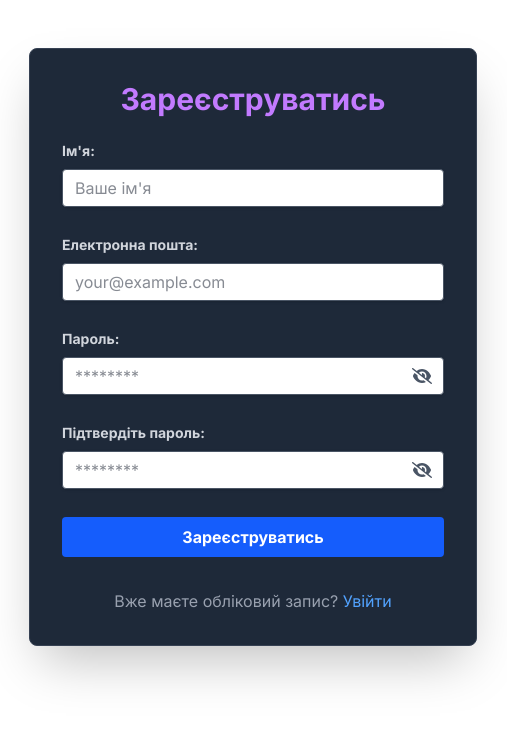
Scenario: RegisterPage › показує помилку, якщо сервер повертає помилку
The image size is (507, 733).
Type "Test User" into the field labelled "Ім'я:" at (253, 188), box [62,169,444,207]
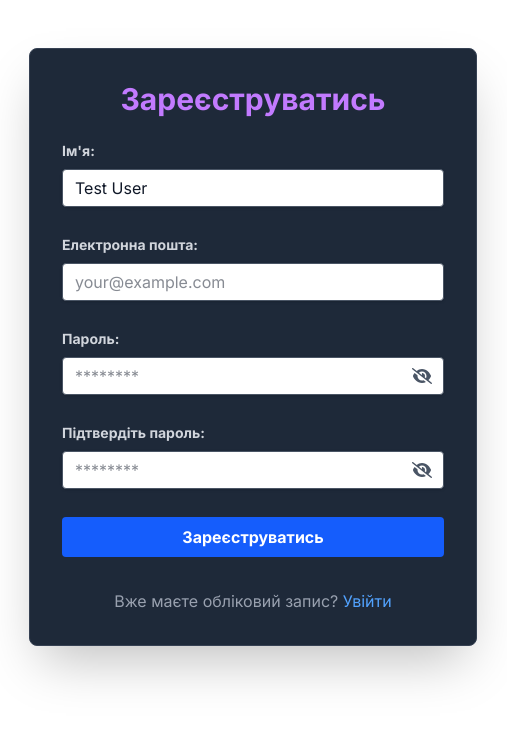
Type "test@example.com" into the field labelled "Електронна пошта:" at (253, 282), box [62,263,444,301]
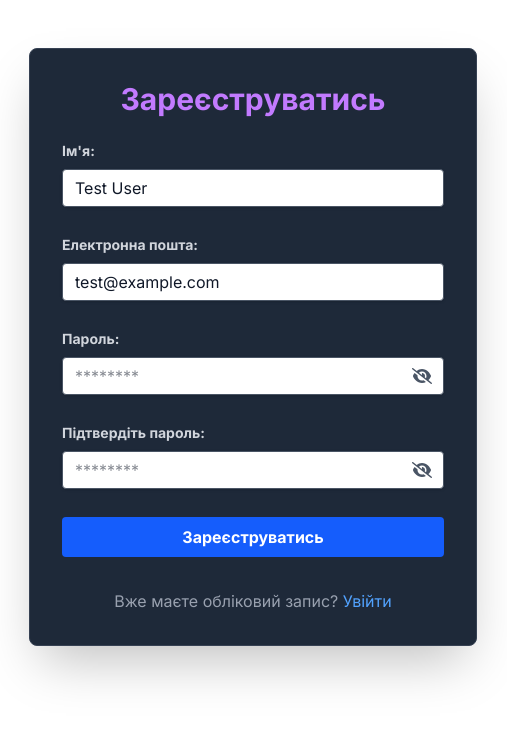
Type "12345678" into the password field labelled "Пароль:" at (253, 376), box [62,357,444,395]
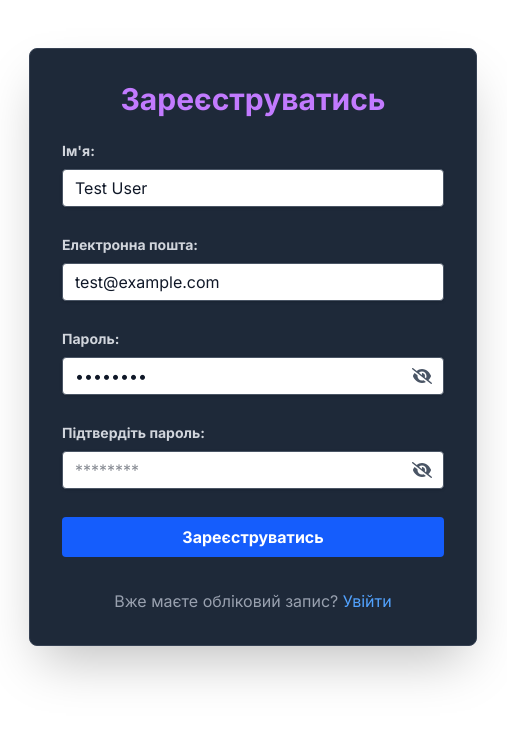
Type "12345678" into the password field labelled "Підтвердіть пароль:" at (253, 470), box [62,451,444,489]
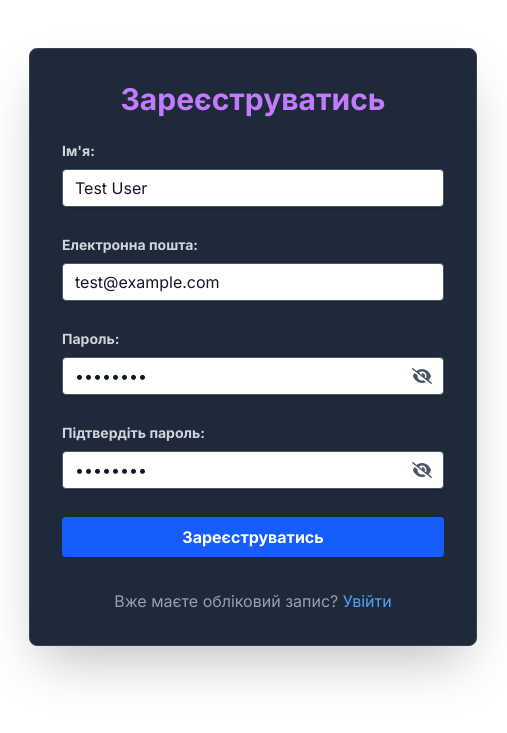
Click the button "Зареєструватись" at (253, 537), box [62,517,444,557]
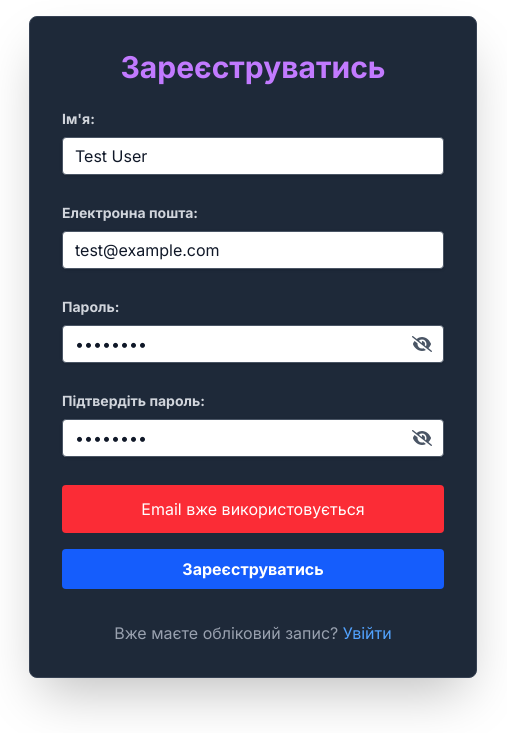
expect the message with test id "error-message" reads "Email вже використовується": met, box [141,499,365,519]
